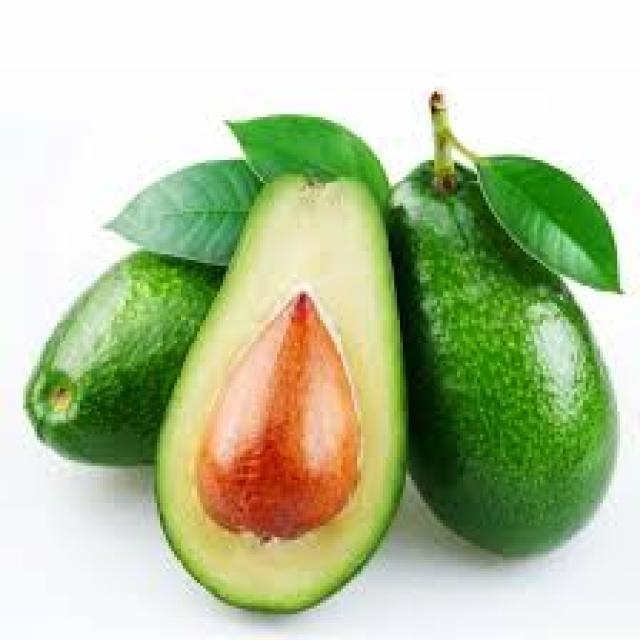avocado: (384, 111, 640, 623), (170, 141, 419, 640), (18, 232, 311, 480)
